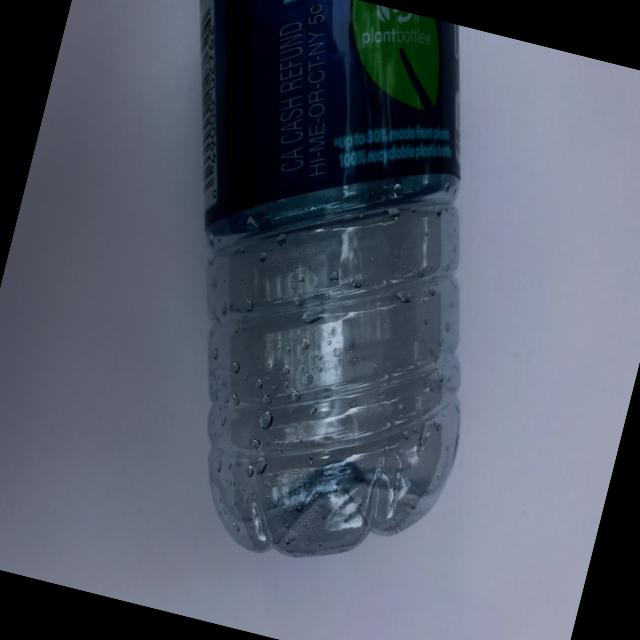Plastic: (44, 0, 571, 608)
